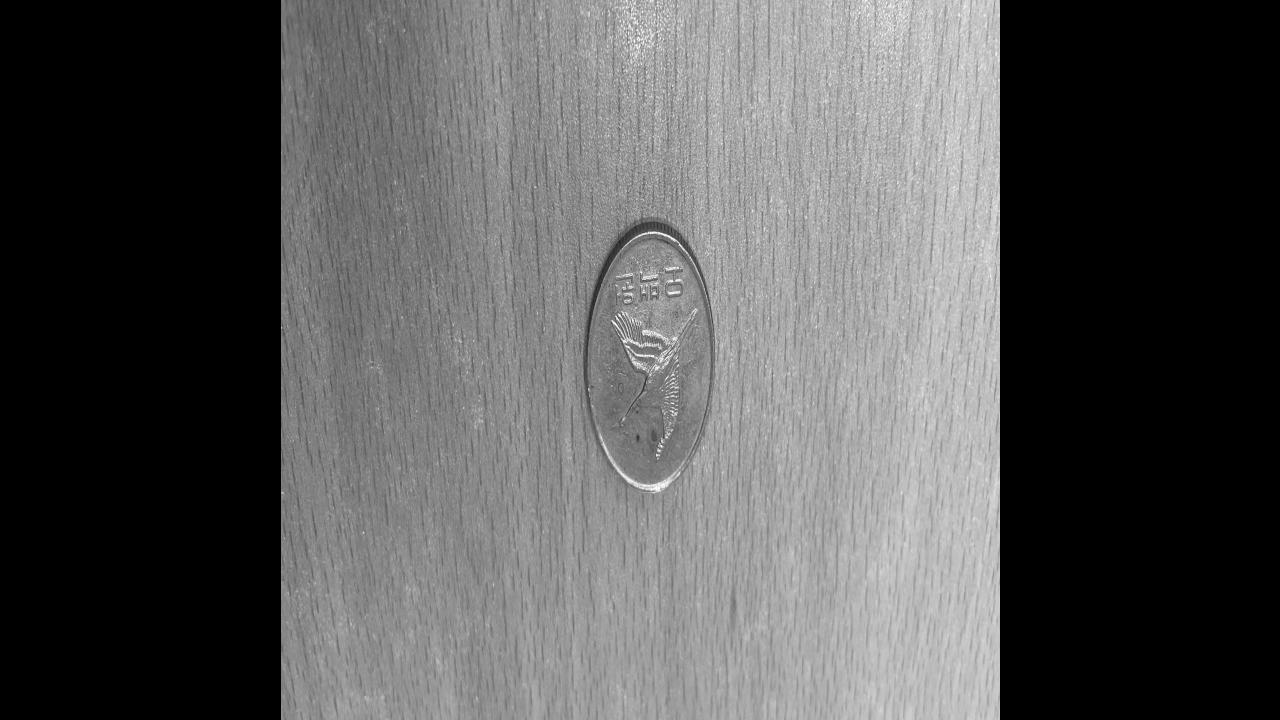coin: (584, 214, 717, 505)
